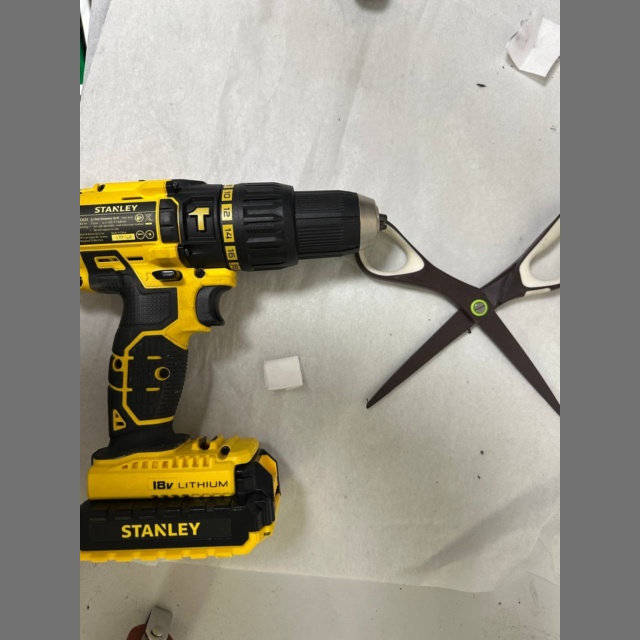drill: (80, 180, 380, 560)
scissor: (358, 218, 560, 413)
